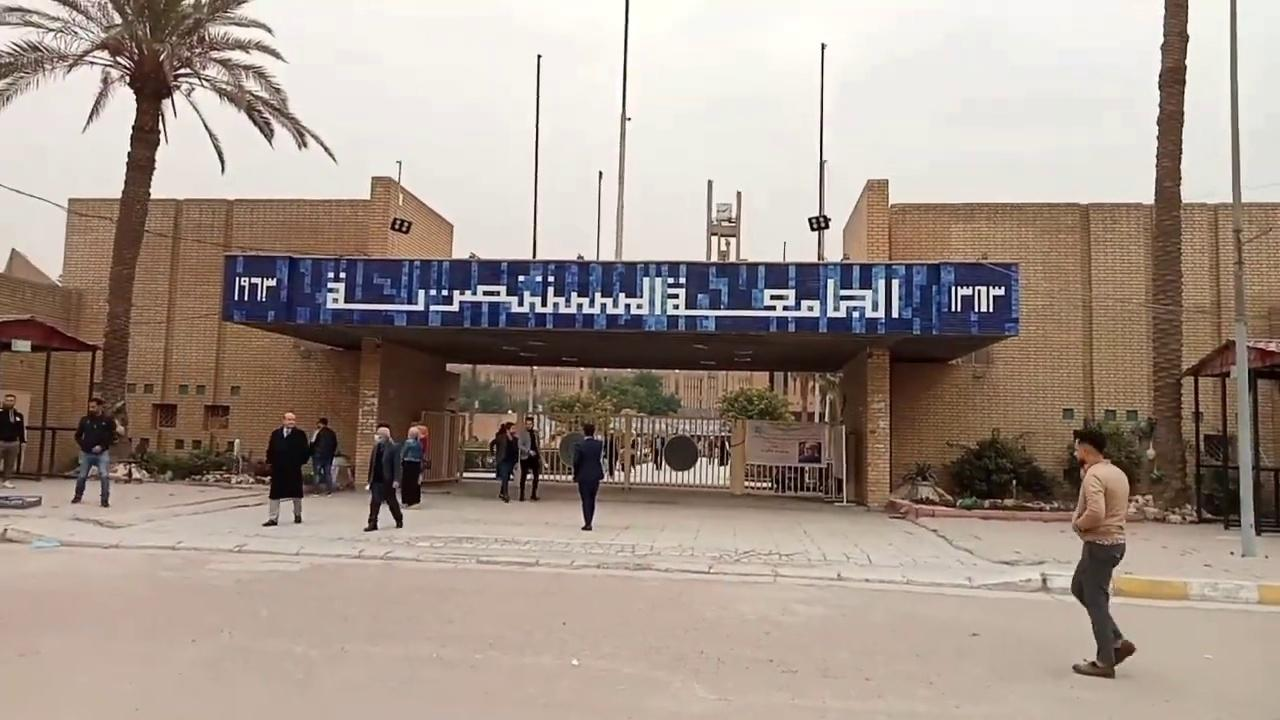person: (1070, 427, 1136, 678), (70, 397, 122, 507), (261, 410, 310, 526), (363, 423, 403, 531), (571, 422, 605, 530), (0, 393, 27, 488), (398, 425, 426, 507), (490, 421, 518, 502), (309, 417, 337, 497), (517, 415, 542, 501)
tree: (0, 0, 337, 440), (1144, 0, 1193, 509), (543, 370, 682, 472), (1064, 406, 1164, 498), (713, 383, 794, 493), (1192, 429, 1276, 522), (942, 426, 1046, 500), (602, 370, 682, 417), (713, 384, 794, 424)
